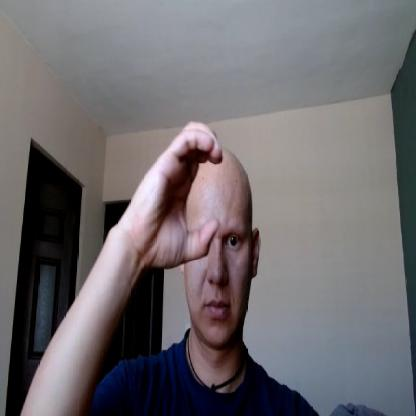C: (136, 119, 223, 268)
